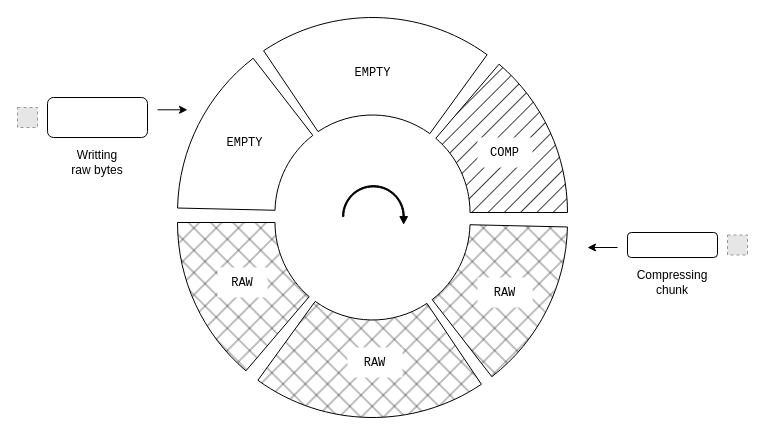
The diagram is 765 pixels wide and 435 high, and some of its shapes have lost their labels. Grey dashed boxes stand in for pictures. The centre of each missing label's shape, as x and y in pixels:
Library (not done writting): the point at 97,117
Service: the point at 672,245
